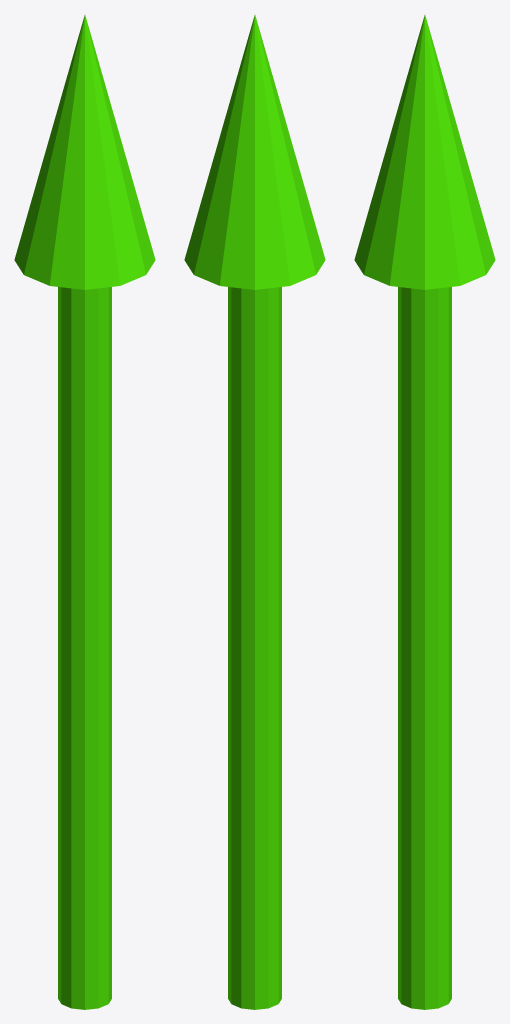
The model's file is TranslateY.obj.
3 views of the same model, side by side, from view 1: azimuth 30°, elevation 25°; view 2: azimuth 150°, elevation 25°; view 3: azimuth 330°, elevation 25° (orthographic).
Visible parts, largest first — view 1: translate_y; view 2: translate_y; view 3: translate_y.
Part boxes in pixels (box(x1,y1,x2,y2)): translate_y: box(14, 15, 155, 1009); translate_y: box(184, 15, 325, 1009); translate_y: box(354, 15, 495, 1009).
Size of the model in its own units: 13 by 100 by 13.
Materials: 1 (1 with a texture image).
